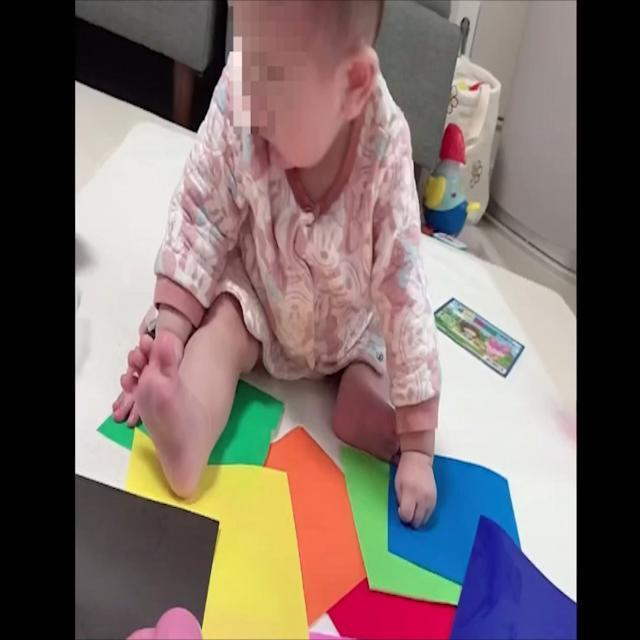child: (110, 0, 443, 528)
